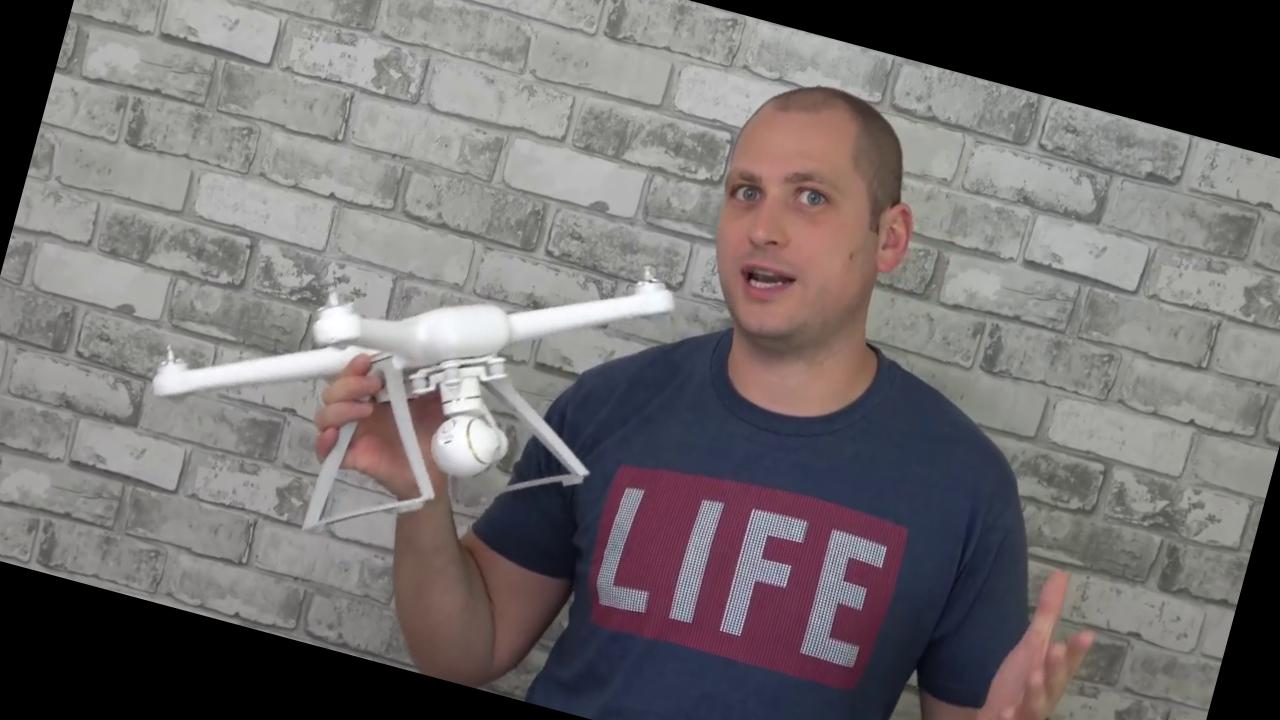drone: (132, 148, 706, 568)
